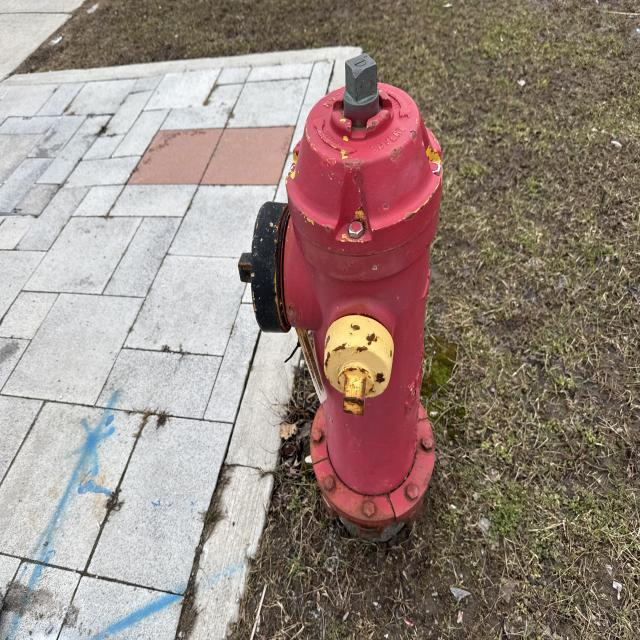Fire hydrant: (237, 52, 444, 541)
